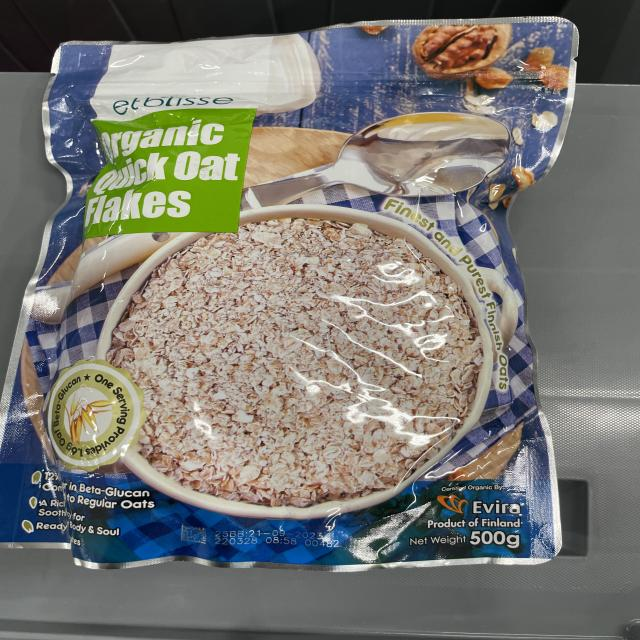object_name: (47, 33, 555, 556)
